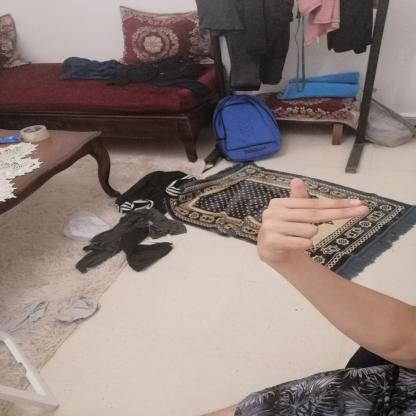GHAYN: (248, 174, 378, 268)
